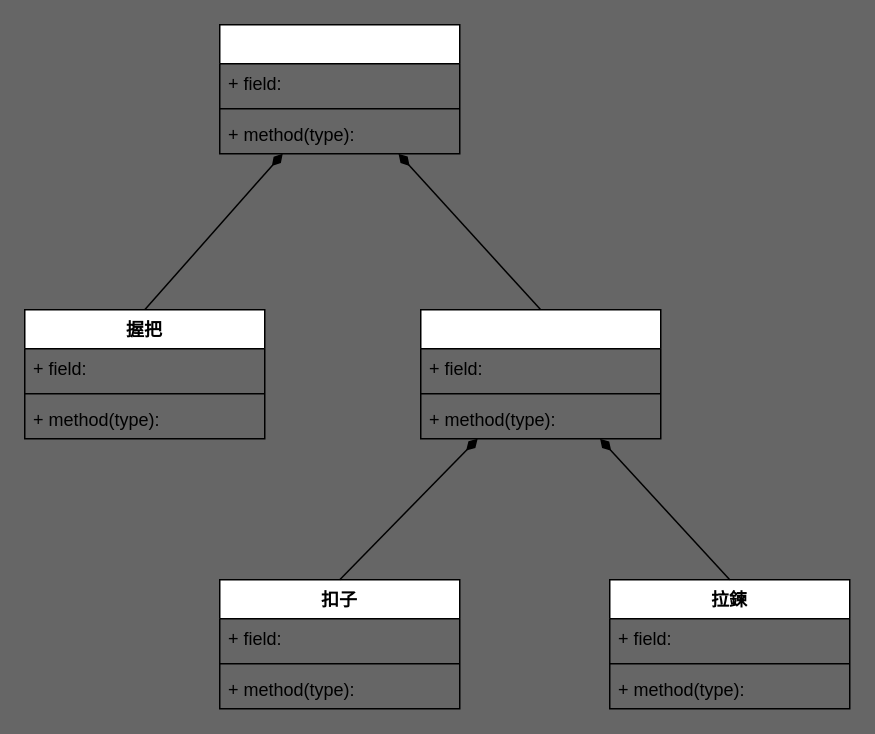
Image size: 875x734. Some labels were removed from this diagram. The box of each missing label's shape, as (x1, y1, x2, y2) in pixels:
皮層: (419, 308, 661, 439)
電腦手提包: (218, 23, 460, 154)
